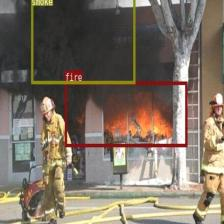fire: (64, 81, 186, 146)
smoke: (31, 0, 135, 83)
